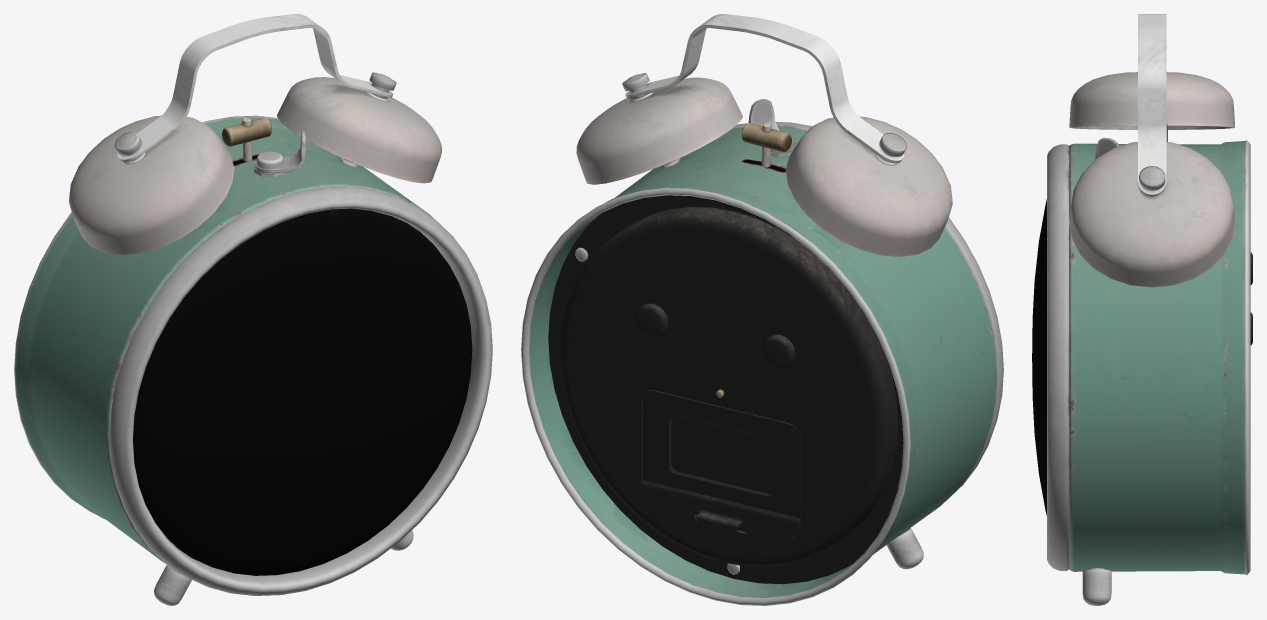
The model's file is alarm_clock.glb.
3 renders of one model, left to right at view 1: azimuth 30°, elevation 25°; view 2: azimuth 150°, elevation 25°; view 3: azimuth 270°, elevation 25°, orthographic. The views are drawn at different scales.
Visible parts, largest first — view 1: alarm_clock_01; view 2: alarm_clock_01; view 3: alarm_clock_01.
Part boxes in pixels (bbox=[...]): alarm_clock_01: bbox=[14, 14, 492, 605]; alarm_clock_01: bbox=[521, 14, 1003, 605]; alarm_clock_01: bbox=[1032, 14, 1252, 605].
Bounding box in the file's own units: 0.1317 × 0.1742 × 0.0667.
Materials: 2 (2 with a texture image).
